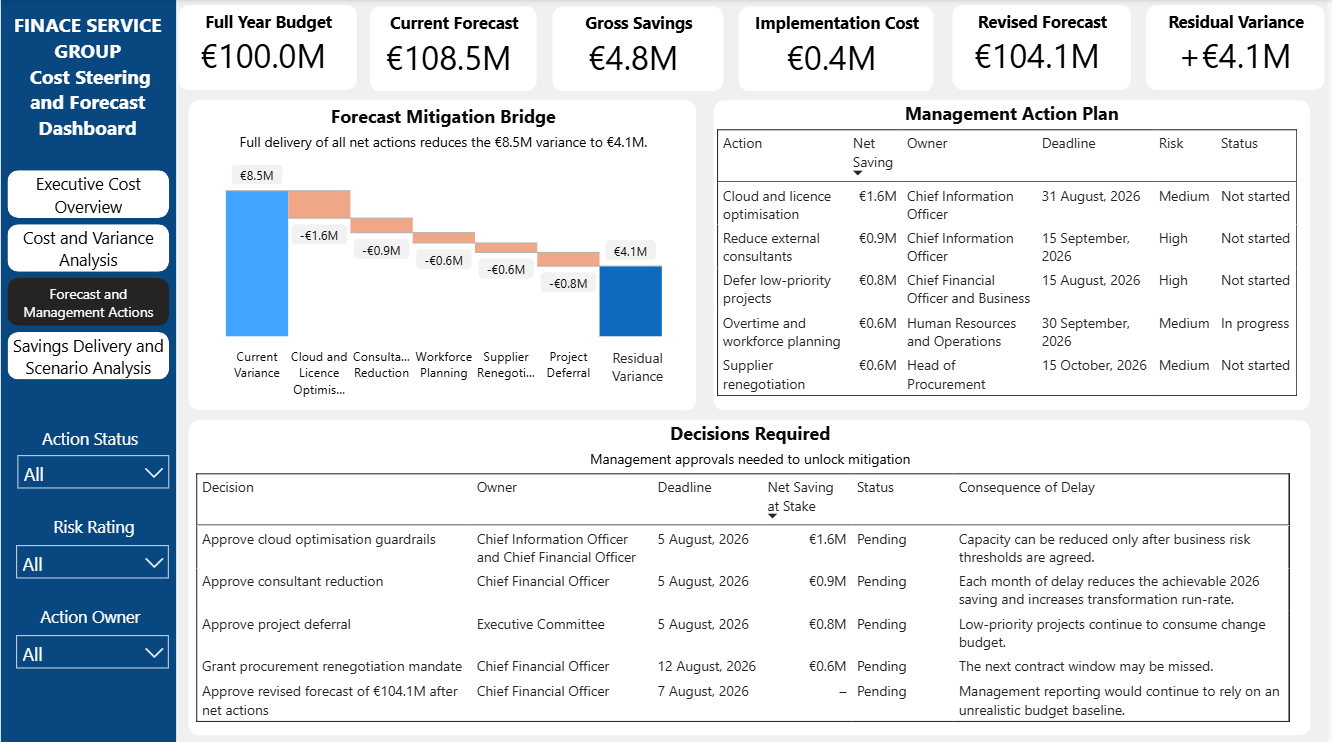

Layout of this report page (visuals, bound fields, positions):
{"tool":"powerbi","page":{"name":"Forecast and Management Actions","canvas":[1280,720],"ordinal":2},"visuals":[{"type":"shape","box":[0,0,171.2,720.1],"z":0},{"type":"card","title":"Full Year Budget","fields":{"Values":["_Measures.Full-Year Budget (€m)"]},"box":[172.4,6.5,171.9,81.2],"z":1000},{"type":"card","title":"Current Forecast","fields":{"Values":["_Measures.Full-Year Forecast"]},"box":[357.3,6.8,161,81.2],"z":2000},{"type":"card","title":"Gross Savings","fields":{"Values":["_Measures.Gross Action Saving (€m)"]},"box":[533.2,6.8,165.1,81.2],"z":3000},{"type":"textbox","box":[8.4,405.8,157,40],"z":3000,"group":"g1"},{"type":"card","title":"Implementation Cost","fields":{"Values":["_Measures.Implementation Cost (€m)"]},"box":[713.2,6.8,188.1,81.2],"z":4000},{"type":"slicer","fields":{"Values":["ActionPlanTable.Status"]},"box":[11.5,436.3,156.1,46.6],"z":4000,"group":"g1"},{"type":"card","title":"Revised Forecast","fields":{"Values":["_Measures.Revised Forecast after Gross Actions (€m)"]},"box":[919.5,6.5,171.9,81.2],"z":5000},{"type":"textbox","box":[11.5,491.7,157.4,40.3],"z":5000,"group":"g1"},{"type":"card","title":"Residual Variance","fields":{"Values":["_Measures.Residual Variance after Net Actions (€m)"]},"box":[1106.2,6.5,171.9,81.2],"z":6000},{"type":"slicer","fields":{"Values":["ActionPlanTable.Risk_Rating"]},"box":[10.2,523.1,157.4,45.3],"z":6000,"group":"g1"},{"type":"waterfallChart","title":"Forecast Mitigation Bridge","fields":{"Category":["Mitigation Bridge.Bridge Item"],"Y":["_Measures.Mitigation Bridge Value (€m)"]},"box":[182.2,97.7,489.8,299.2],"z":7000},{"type":"textbox","box":[9,578.5,157.4,40.3],"z":7000,"group":"g1"},{"type":"tableEx","title":"Management Action Plan","fields":{"Values":["ActionPlanTable.Action","ActionPlanTable.Net_Saving_EUR_m","ActionPlanTable.Owner","ActionPlanTable.Deadline","ActionPlanTable.Risk_Rating","ActionPlanTable.Status"]},"box":[688.9,97.7,575.5,299.2],"z":8000},{"type":"slicer","fields":{"Values":["ActionPlanTable.Owner"]},"box":[10.2,610,157.4,45.3],"z":8000,"group":"g1"},{"type":"textbox","box":[580.3,329.4,70,53.1],"z":9000},{"type":"tableEx","title":"Decisions Required","fields":{"Values":["DecisionRequestsTable.Decision_Required","DecisionRequestsTable.Decision_Owner","DecisionRequestsTable.Decision_Deadline","DecisionRequestsTable.Financial_Impact_EUR_m","DecisionRequestsTable.Status","DecisionRequestsTable.Consequence_of_No_Decision"]},"box":[182.2,406.6,1082.2,304],"z":10000},{"type":"group","id":"g1","title":"Group 2","box":[8.4,405.8,160.5,249.5],"z":11000},{"type":"pageNavigator","box":[7.2,165.1,156.4,205.2],"z":12000},{"type":"textbox","box":[0,7.2,169.4,147.8],"z":13000}]}

Visuals, with their boxes in screenshot pixels (x1, y1, x2, y2), scaled from the page's 1280x720 canvas onto the 1332x742 screenshot:
shape: (0,0,178,741)
"Full Year Budget" card: (179,7,358,90)
"Current Forecast" card: (372,7,539,91)
"Gross Savings" card: (555,7,727,91)
textbox: (9,418,172,459)
"Implementation Cost" card: (742,7,938,91)
slicer - ActionPlanTable.Status: (12,450,174,498)
"Revised Forecast" card: (957,7,1136,90)
textbox: (12,507,176,548)
"Residual Variance" card: (1151,7,1330,90)
slicer - ActionPlanTable.Risk_Rating: (11,539,174,586)
"Forecast Mitigation Bridge" waterfallChart: (190,101,699,409)
textbox: (9,596,173,638)
"Management Action Plan" tableEx: (717,101,1316,409)
slicer - ActionPlanTable.Owner: (11,629,174,675)
textbox: (604,339,677,394)
"Decisions Required" tableEx: (190,419,1316,732)
"Group 2" group: (9,418,176,675)
pageNavigator: (7,170,170,382)
textbox: (0,7,176,160)
